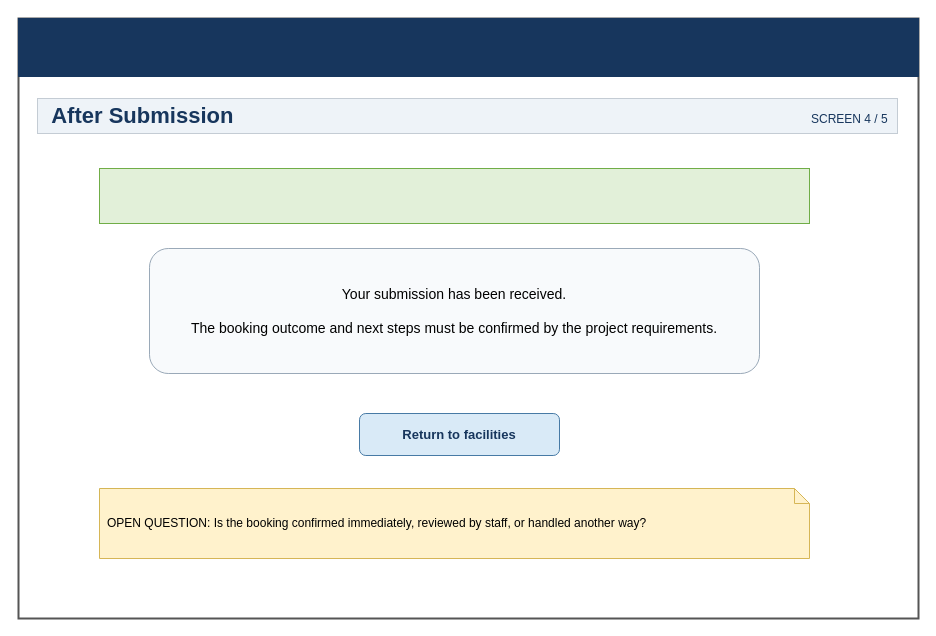
Some shapes in this 936 by 636 pixel diagram are drawn without their labels. The centre of each missing label's shape, as x and y in pixels:
"Booking request submitted" belongs at pixel 454 196.
"COMMUNITY SPORTS & ACTIVITY BOOKING" belongs at pixel 468 47.
